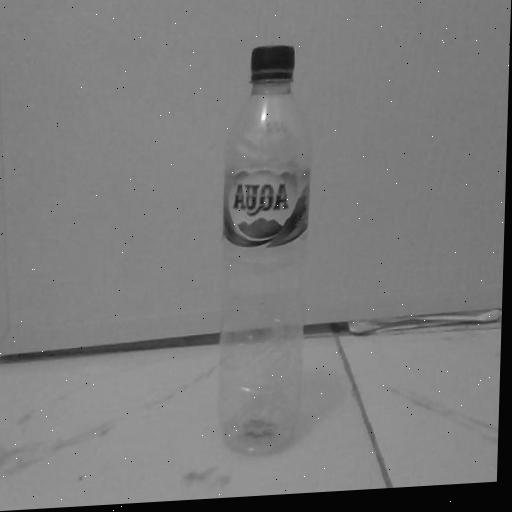ba: (198, 19, 327, 483)
